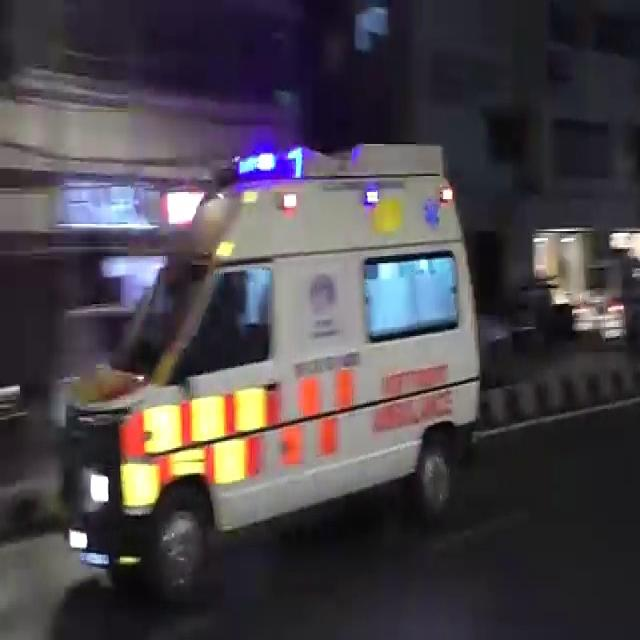ambulance: (67, 172, 485, 522)
